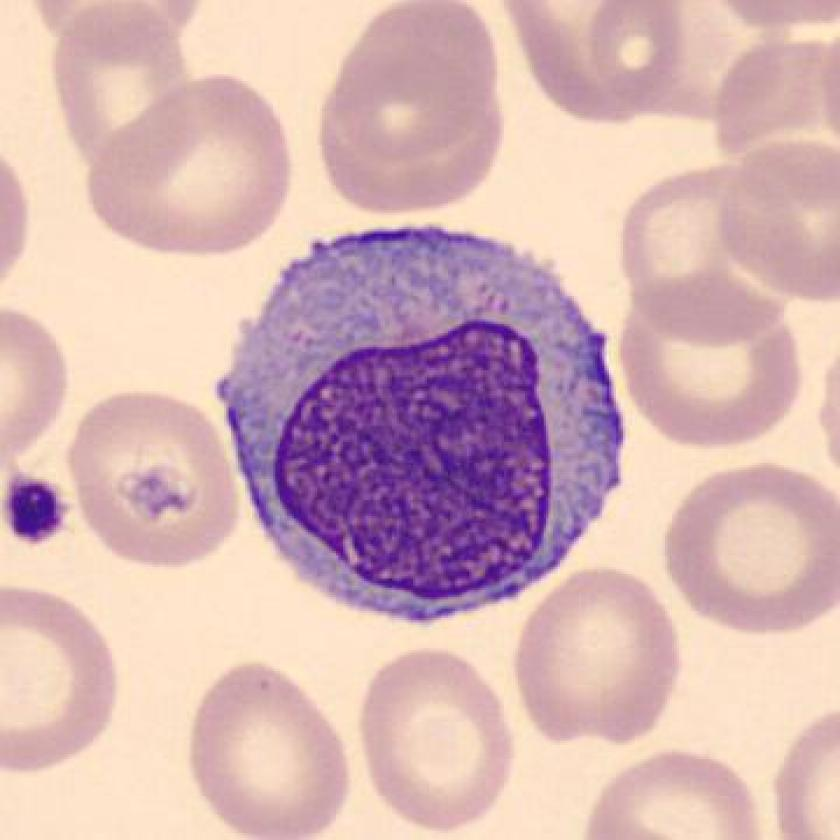monocyte: (195, 200, 645, 642)
